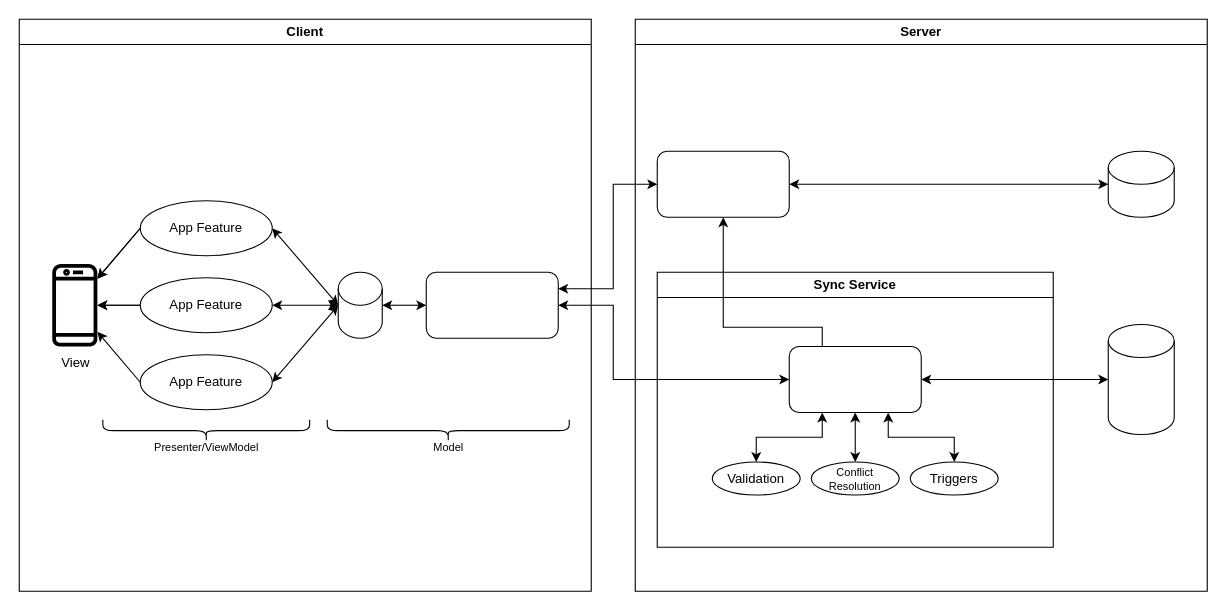
Some shapes in this 1227 by 611 pixel diagram are drawn without their labels. The box of each missing label's shape, as (x1, y1, x2, y2) in pixels:
Data Store: (1107, 323, 1174, 435)
Identity Service: (656, 150, 789, 217)
Identity Store: (1107, 150, 1174, 217)
SQLite: (337, 271, 382, 338)
Sync Client: (425, 271, 558, 338)
Sync Core: (788, 345, 921, 413)
